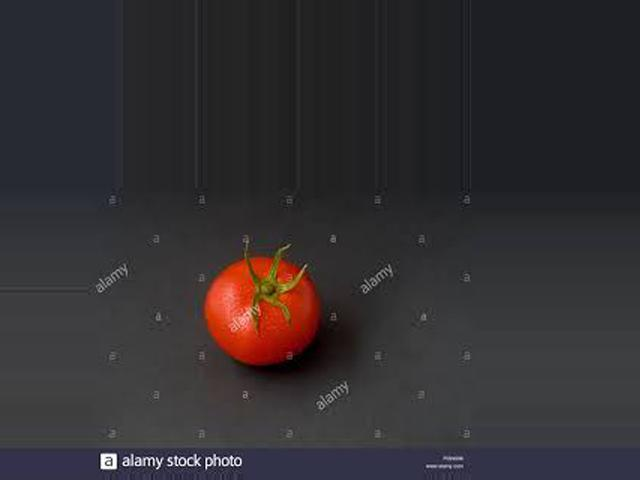tomato: (204, 256, 321, 361)
